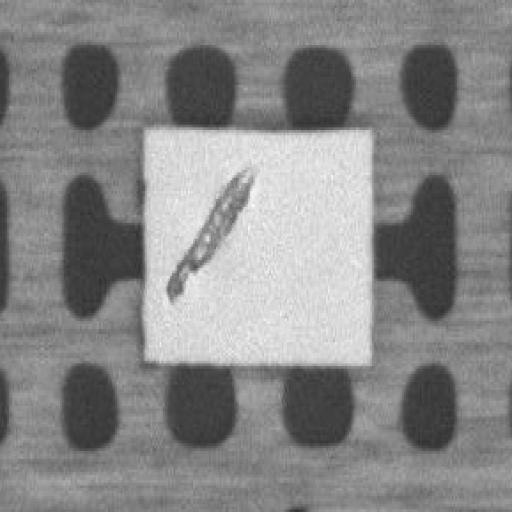DIE_INK: (163, 167, 250, 297)
